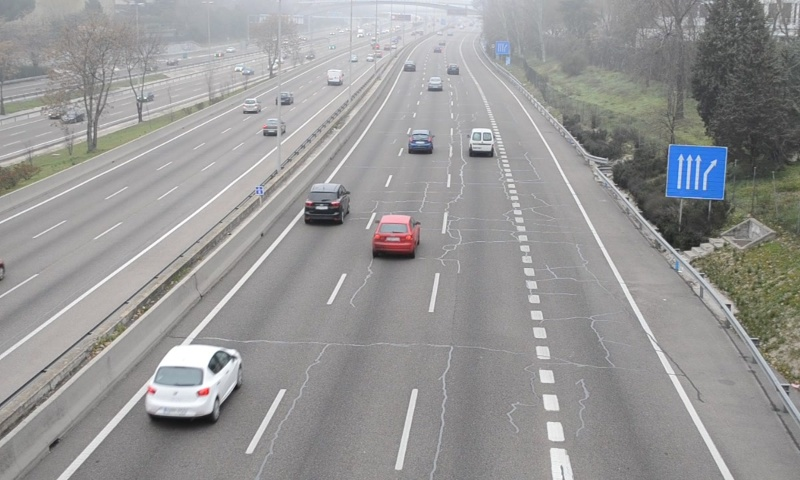car: (145, 345, 242, 418), (371, 215, 418, 254), (304, 184, 348, 222), (408, 130, 431, 153), (428, 76, 444, 92)
van: (468, 128, 495, 155)
